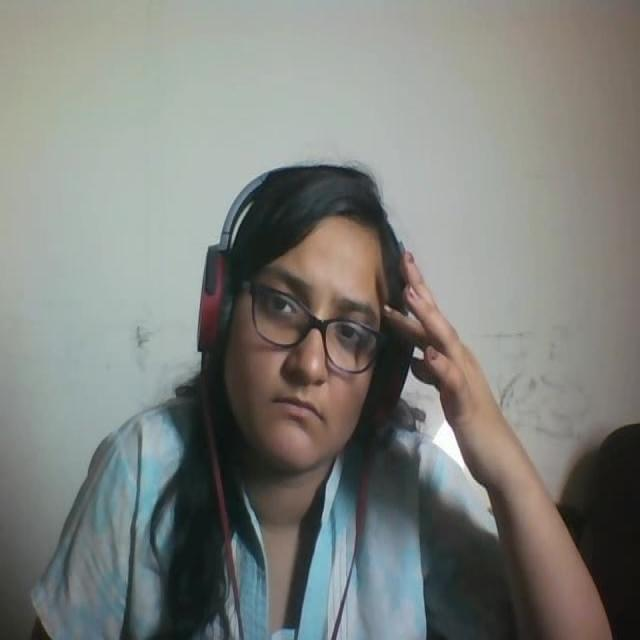Bored: (190, 142, 429, 474)
